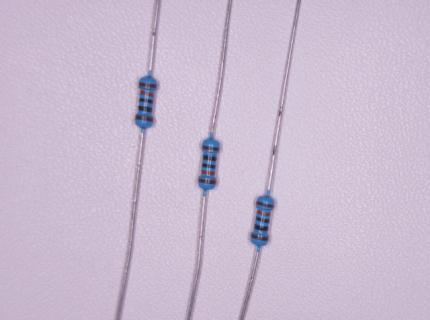Black band: (255, 215, 270, 224), (254, 224, 269, 232), (139, 105, 152, 113), (202, 162, 216, 169), (203, 155, 216, 162), (139, 98, 153, 104)
Brown band: (250, 233, 269, 242), (257, 200, 274, 208), (135, 115, 154, 122), (198, 178, 216, 185), (139, 82, 157, 88), (202, 146, 220, 151)
Orange band: (256, 210, 271, 217), (140, 91, 154, 97), (202, 170, 215, 175)
